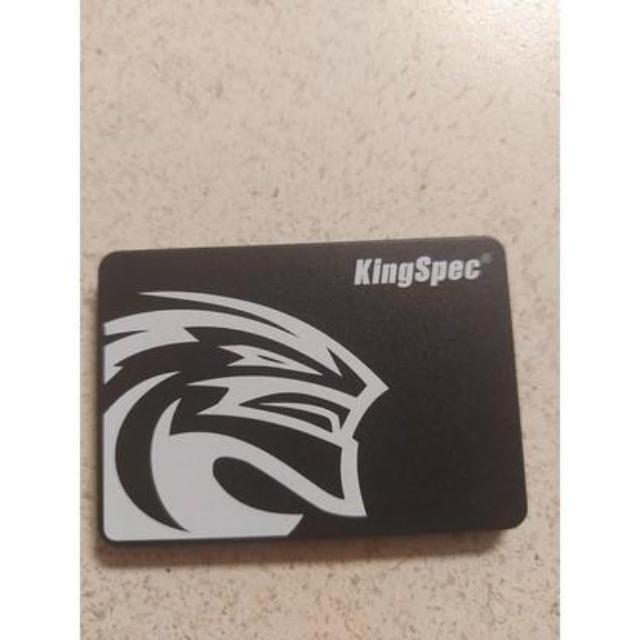DISK: (88, 232, 534, 550)
